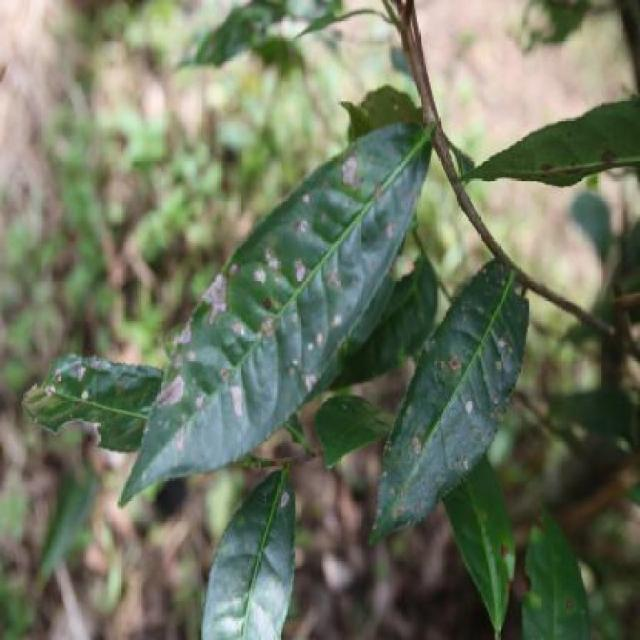Leaf rust of tea: (123, 112, 426, 463), (368, 249, 528, 522)
